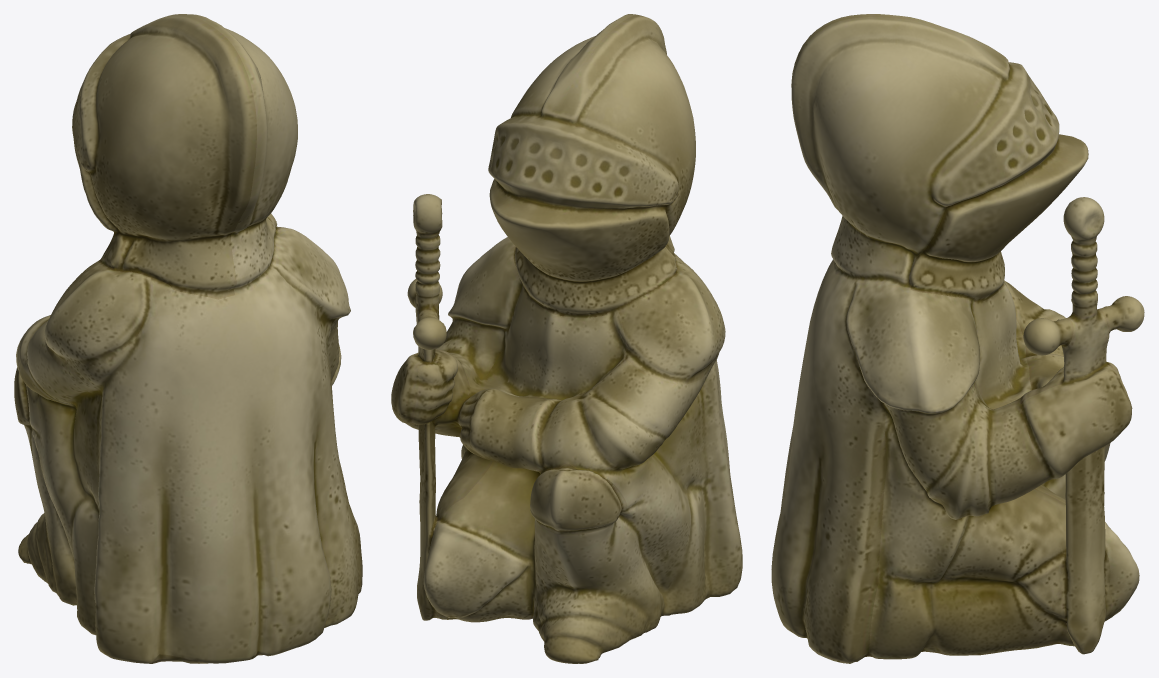
File: PeonD.glb
3 renders of one model, left to right at view 1: azimuth 30°, elevation 25°; view 2: azimuth 150°, elevation 25°; view 3: azimuth 270°, elevation 25°, orthographic. The views are drawn at different scales.
Visible parts, largest first — view 1: 12941_Stone_Chess_Rook_Side_A_V2_l1; view 2: 12941_Stone_Chess_Rook_Side_A_V2_l1; view 3: 12941_Stone_Chess_Rook_Side_A_V2_l1.
Boxes of the visible parts, x1,y1,x2,y2 form: 12941_Stone_Chess_Rook_Side_A_V2_l1: (14, 14, 362, 663); 12941_Stone_Chess_Rook_Side_A_V2_l1: (391, 14, 742, 663); 12941_Stone_Chess_Rook_Side_A_V2_l1: (771, 14, 1144, 663).
Size of the model in its own units: 0.7023 by 1.33 by 0.762.
1 material, 1 textured.
